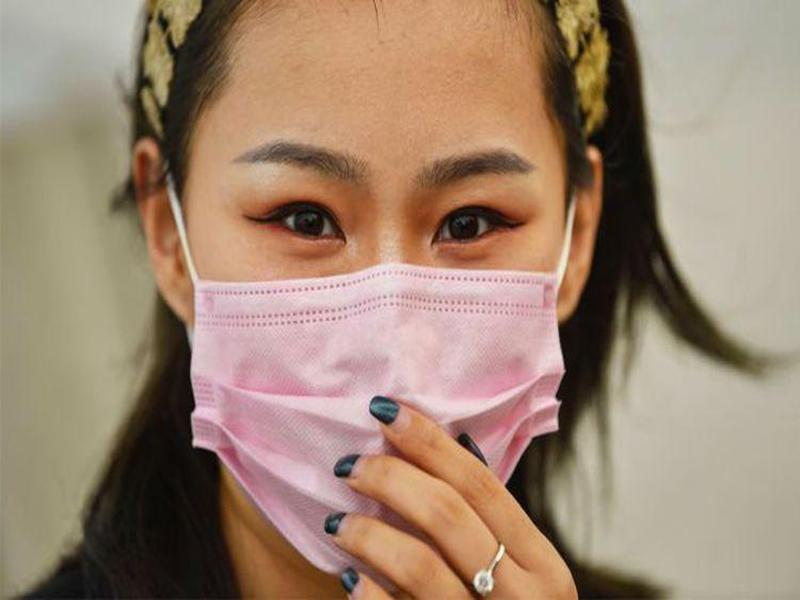with_mask: (175, 1, 605, 595)
